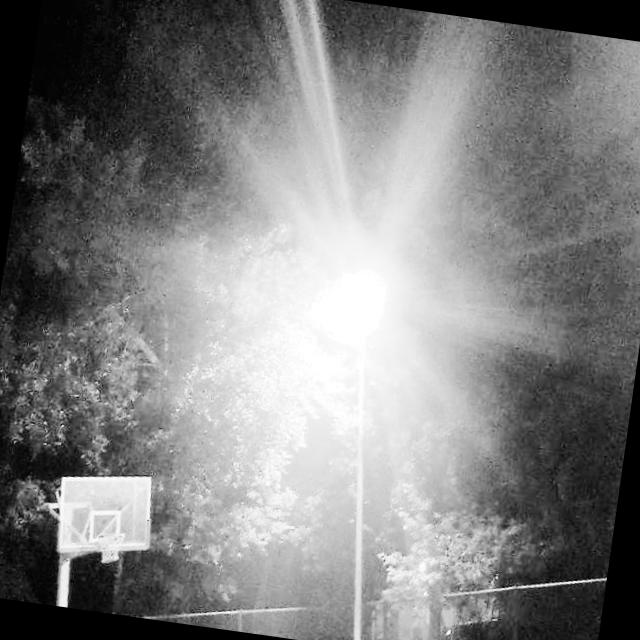Light: (263, 257, 424, 640)
